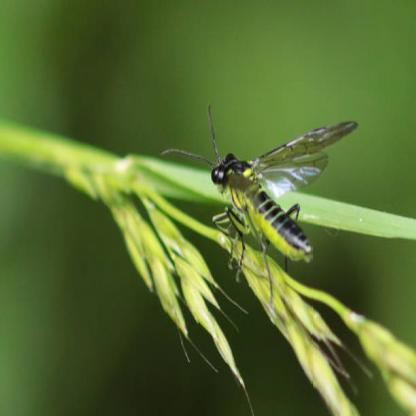sawfly: (162, 100, 361, 320)
